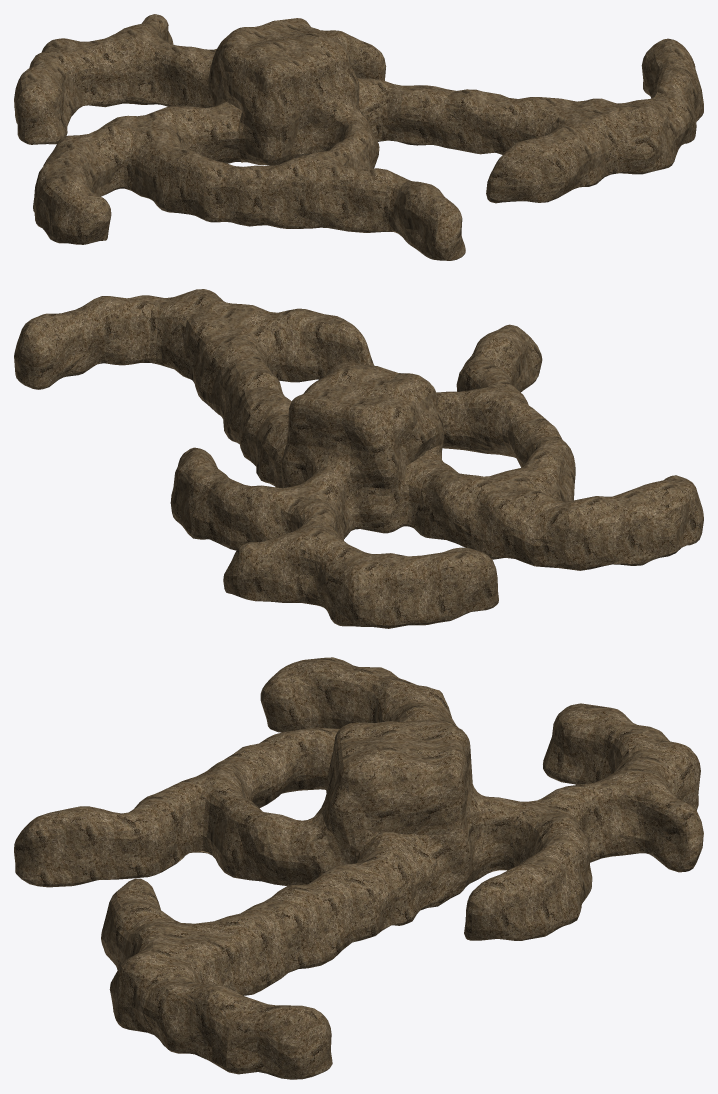
Rendered from Cave.fbx.
3 views of the same model, one above another, from view 1: azimuth 30°, elevation 25°; view 2: azimuth 150°, elevation 25°; view 3: azimuth 270°, elevation 25° (orthographic). The views are drawn at different scales.
Parts seen in each view (by area): view 1: Cube; view 2: Cube; view 3: Cube.
Boxes of the visible parts, x1=… form: Cube: x1=14, y1=14, x2=703, y2=260; Cube: x1=14, y1=289, x2=703, y2=628; Cube: x1=14, y1=657, x2=703, y2=1079.
Size of the model in its own units: 6237 by 1092 by 4885.
